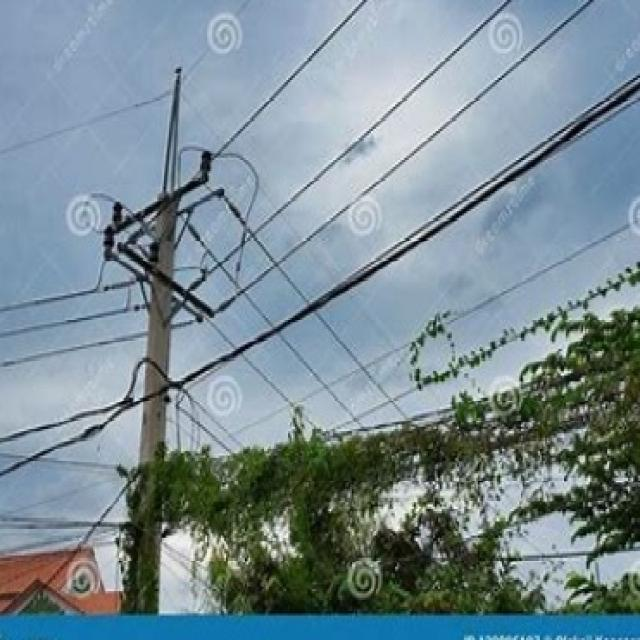critical vegetation: (143, 396, 640, 542)
